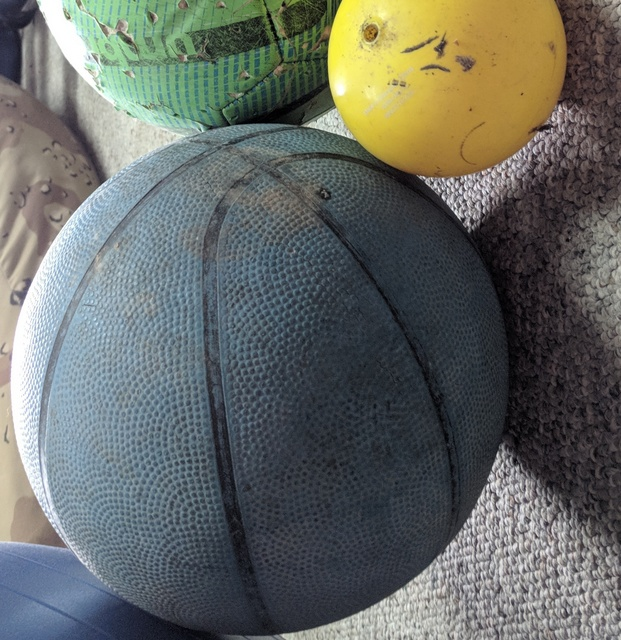ball: (13, 120, 510, 640)
